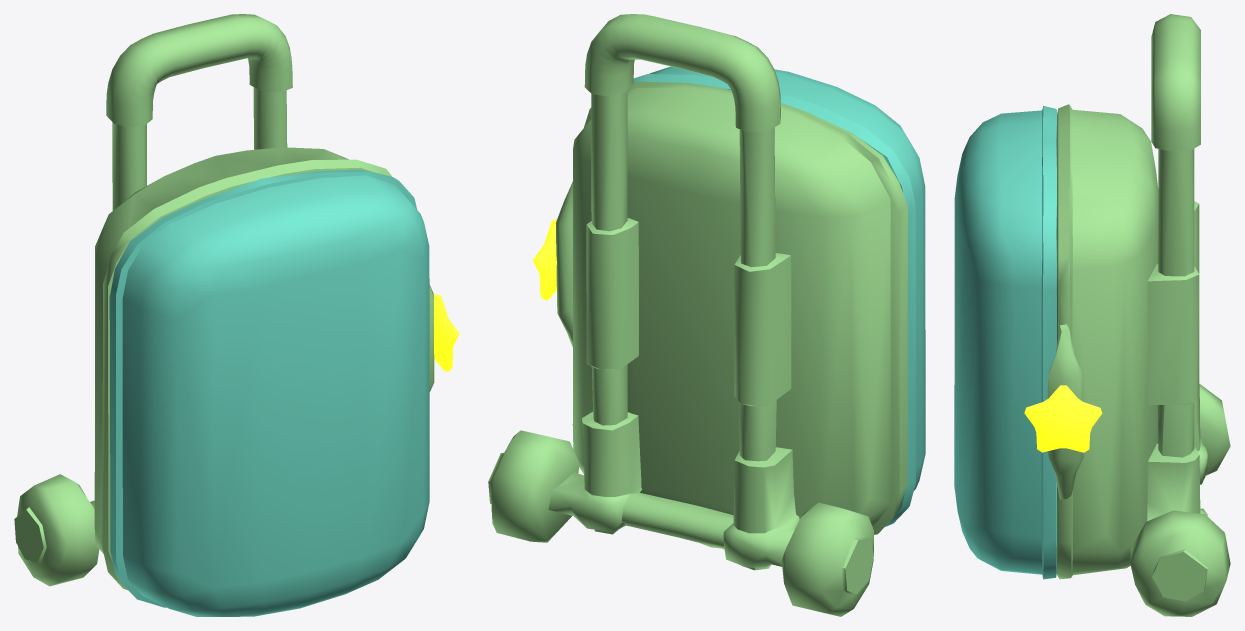
The model's file is NST_Suitcase.fbx.
The picture shows the model from 3 angles, left to right: view 1: azimuth 30°, elevation 25°; view 2: azimuth 150°, elevation 25°; view 3: azimuth 270°, elevation 25°; orthographic projection. The views are drawn at different scales.
Visible parts, largest first — view 1: NST_Suitcase_Openable, NST_Suitcase; view 2: NST_Suitcase, NST_Suitcase_Openable; view 3: NST_Suitcase, NST_Suitcase_Openable.
Part boxes in pixels (x1,y1,x2,y2): NST_Suitcase_Openable: (109,169,429,616); NST_Suitcase: (14,14,459,590); NST_Suitcase: (488,14,907,616); NST_Suitcase_Openable: (633,66,925,526); NST_Suitcase: (1024,14,1230,616); NST_Suitcase_Openable: (954,106,1056,579).
Size of the model in its own units: 37 by 51.16 by 25.32.
